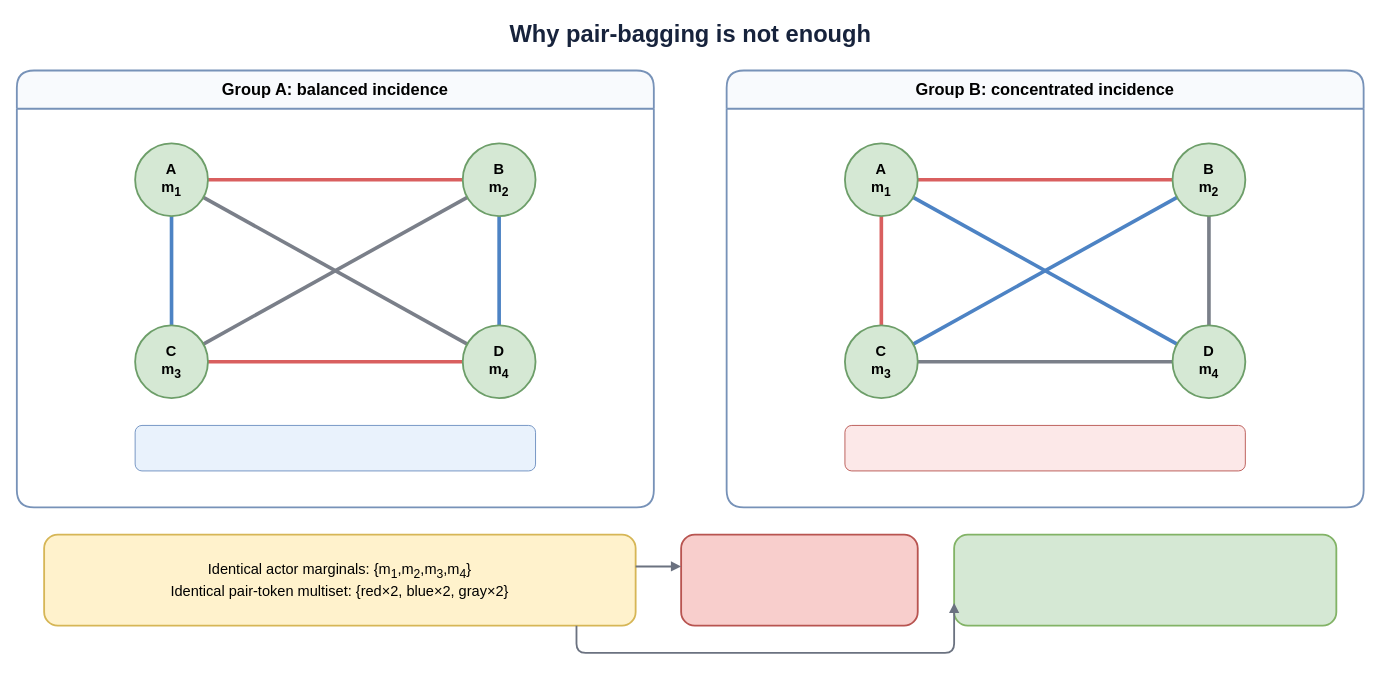
Some shapes in this 1380 by 676 pixel diagram are drawn without their labels. The shapes that lost their labels are listed below. From the top down, each one's centre as x and y in pixels, then its label:
(x=335, y=448): Every actor: 1 red + 1 blue + 1 gray incident relation
(x=1044, y=448): A: 2 red; D: 2 gray; B/C: mixed incident relations
(x=799, y=579): Pair-bag mean identical
(x=1145, y=579): PhaseSet incidence moments distinguishable
